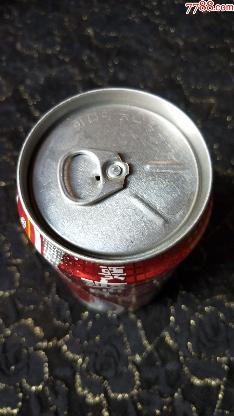Can: (17, 88, 212, 314)
